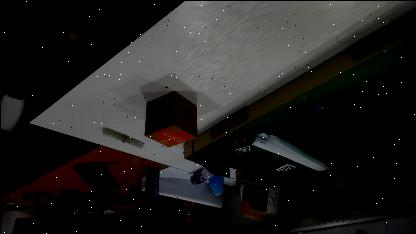Plastic Bottle: (143, 168, 159, 221), (189, 166, 214, 185), (180, 200, 194, 220)
